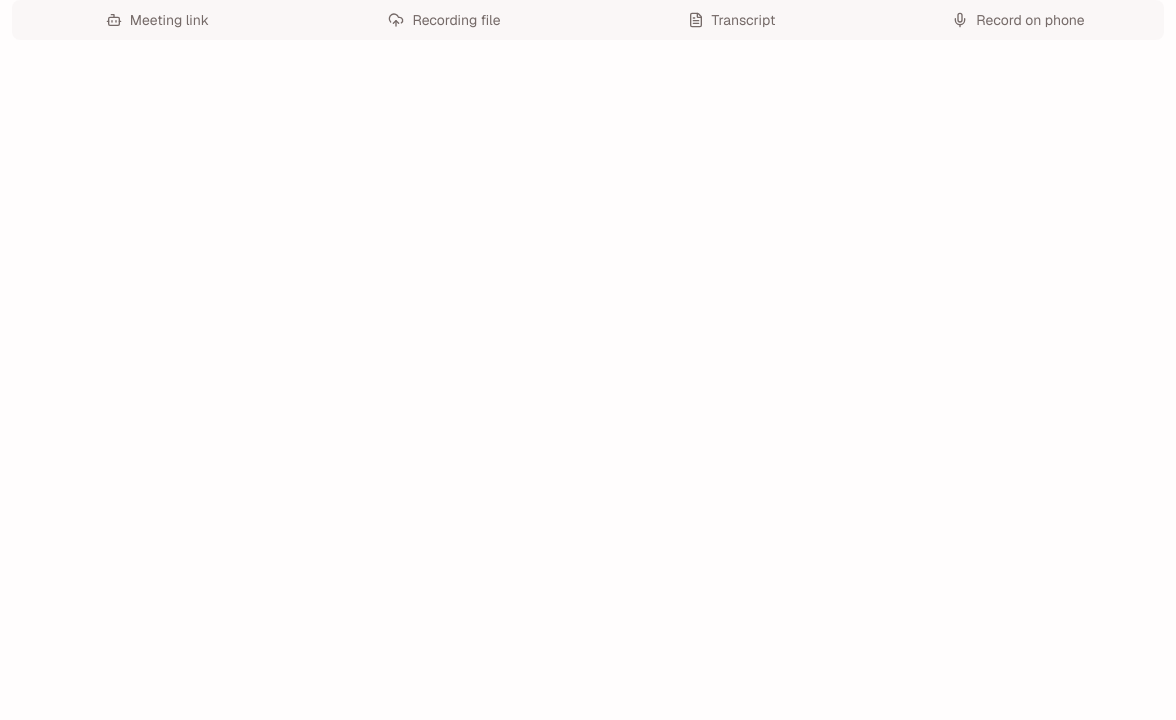
Test: NewMeetingSources › preserves transcript input and removes the draft when upload fails
This screenshot has width=1176, height=720.
Click the button "Transcript": (732, 20) [590,4,873,36]
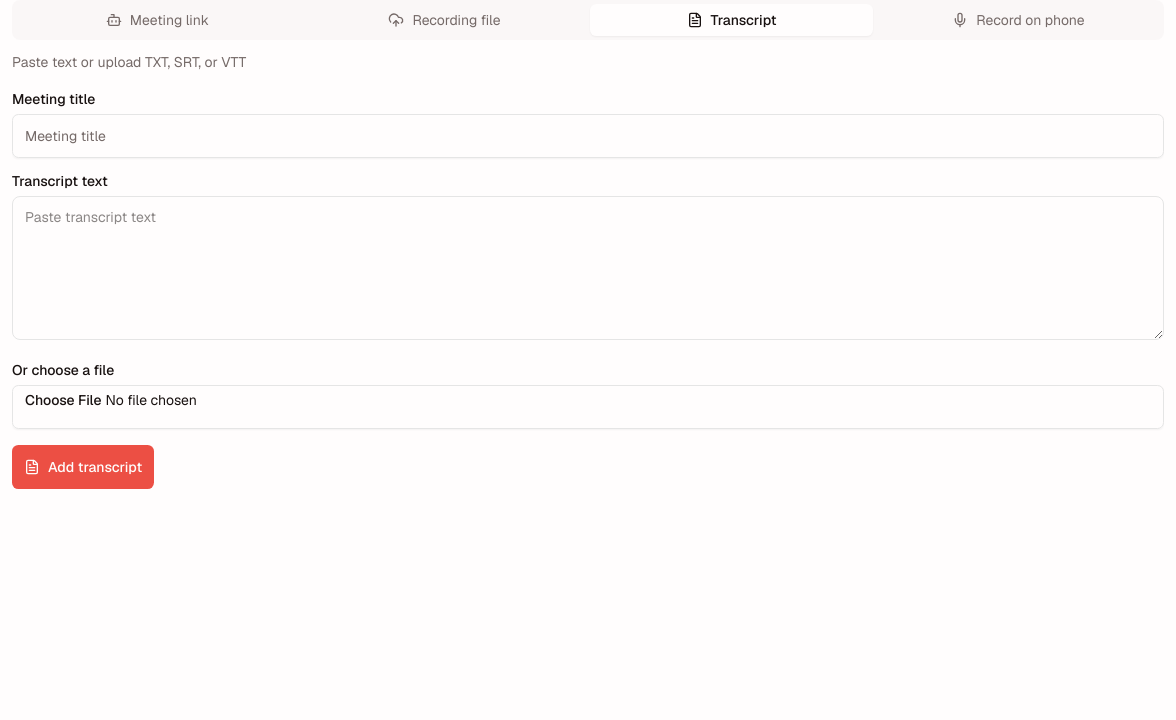
In the text box labelled "Transcript text": (588, 268) [12,196,1164,340], type "Alice: Important notes"
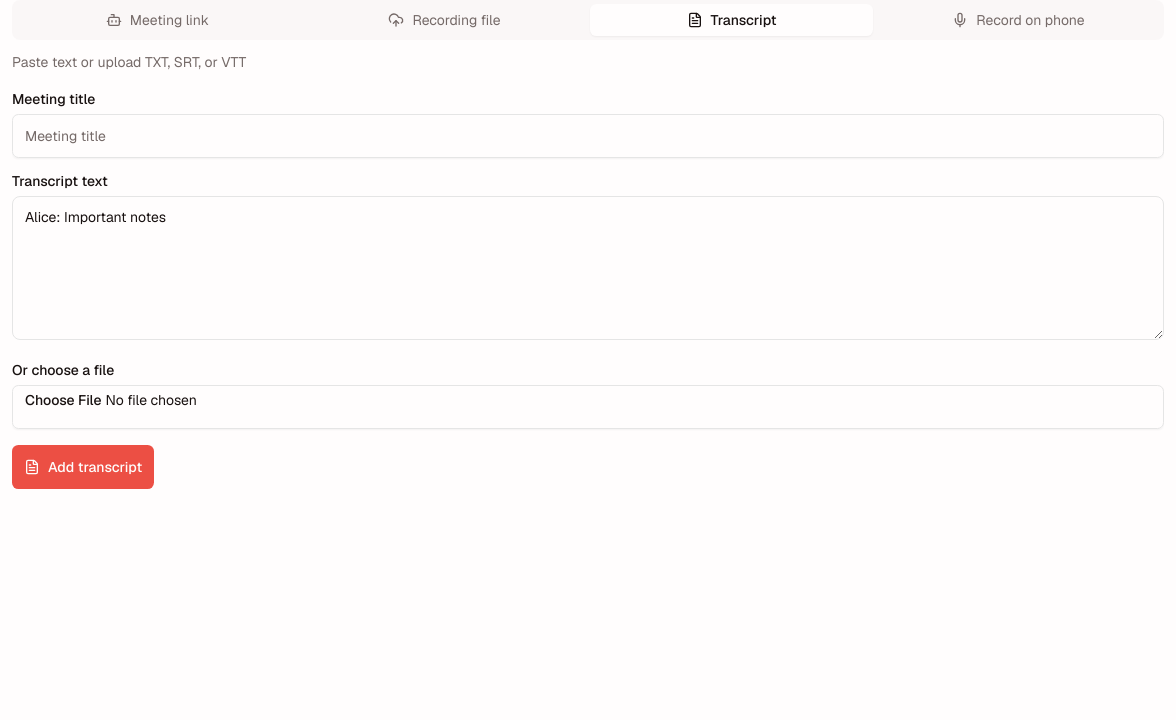
Click the button "Add transcript": (83, 467) [12,445,154,489]
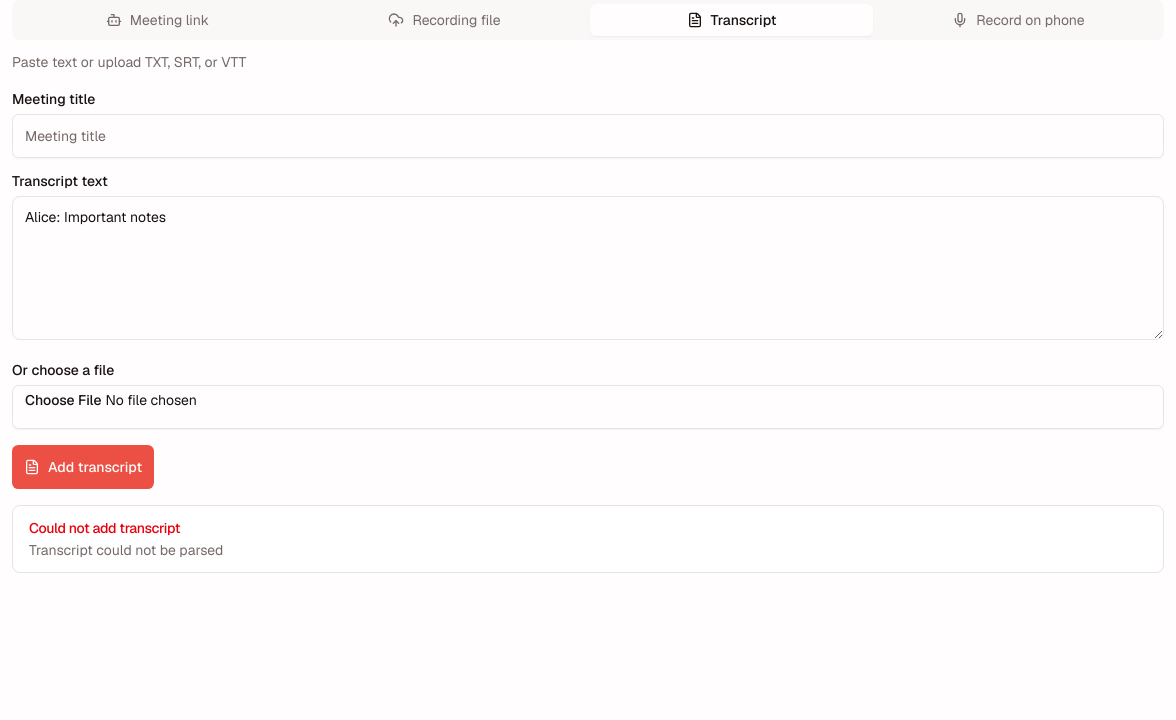
Expected: the text "Transcript could not be parsed" is shown, [29,541,223,559]
